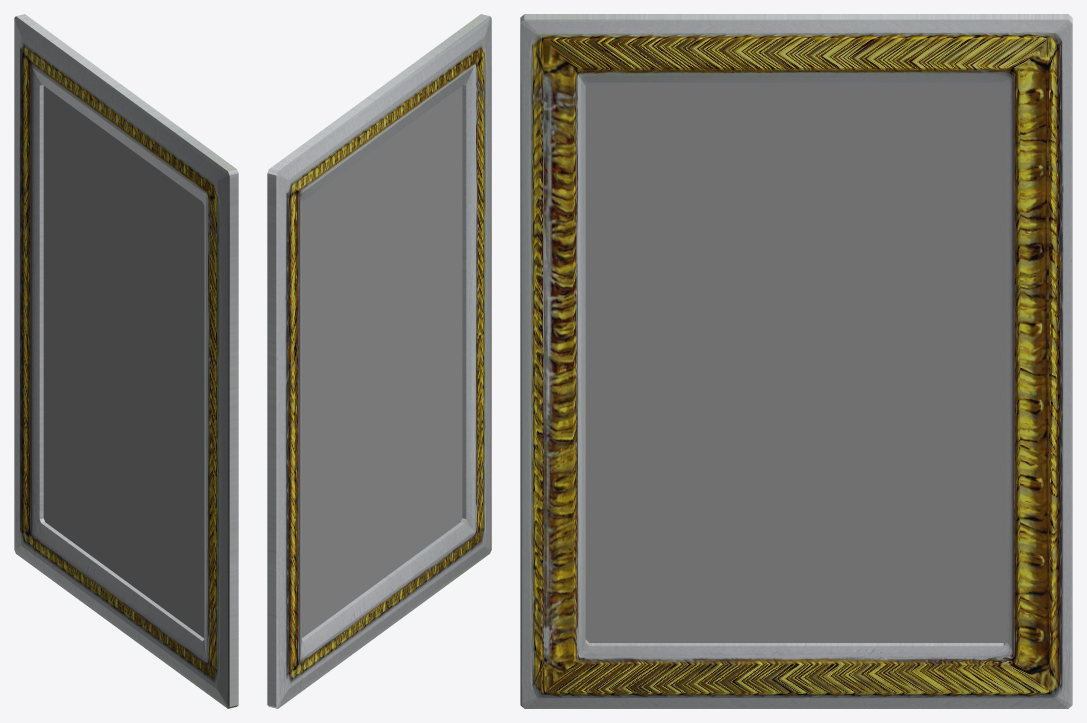
File: painting.fbx
The picture shows the model from 3 angles, left to right: view 1: azimuth 30°, elevation 25°; view 2: azimuth 150°, elevation 25°; view 3: azimuth 270°, elevation 25°; orthographic projection. The views are drawn at different scales.
Parts seen in each view (by area): view 1: polySurface9, polySurface8; view 2: polySurface9, polySurface8; view 3: polySurface9, polySurface8.
Part boxes in pixels (left/top/right/bottom): polySurface9: left=43, top=86, right=204, bottom=638; polySurface8: left=14, top=14, right=238, bottom=708; polySurface9: left=301, top=86, right=462, bottom=638; polySurface8: left=267, top=14, right=491, bottom=708; polySurface9: left=585, top=82, right=1007, bottom=642; polySurface8: left=520, top=14, right=1072, bottom=708.
Size of the model in its own units: 0.4339 by 14.55 by 10.57.
